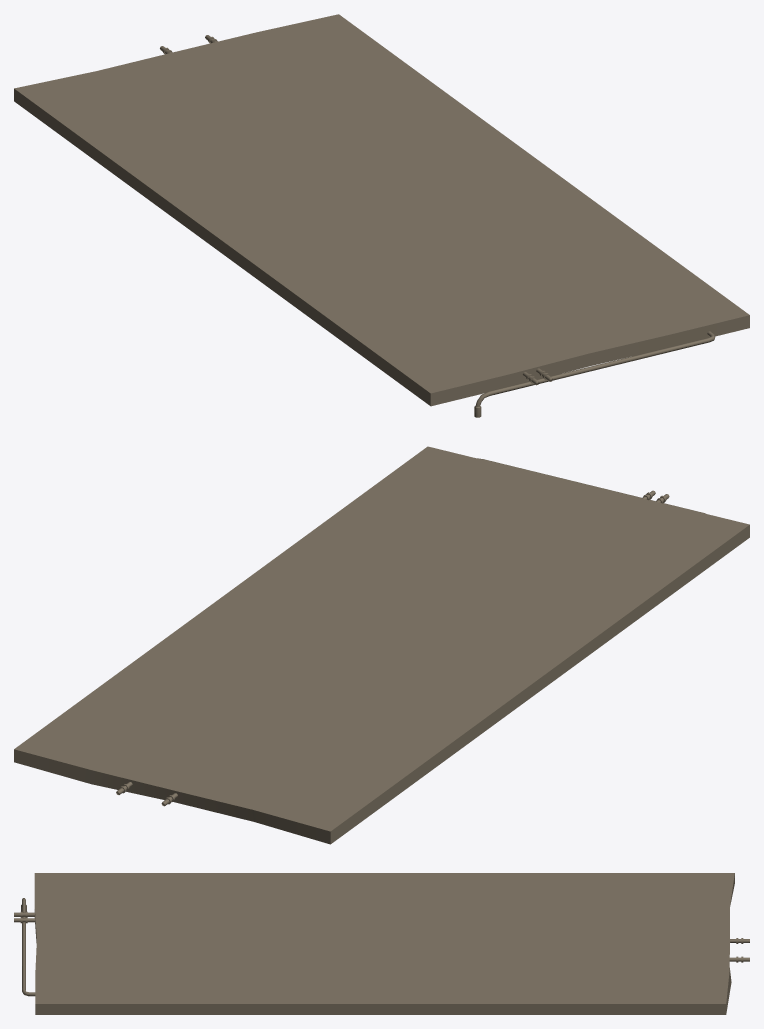
File: longcFloor4_LP.fbx
3 views of the same model, one above another, from view 1: azimuth 30°, elevation 25°; view 2: azimuth 150°, elevation 25°; view 3: azimuth 270°, elevation 25° (orthographic). The views are drawn at different scales.
Parts seen in each view (by area): view 1: longFloor7_LP, longFloor8_LP; view 2: longFloor7_LP, longFloor8_LP; view 3: longFloor7_LP, longFloor8_LP.
Part boxes in pixels (x1,y1,x2,y2): longFloor7_LP: (14,14,749,406); longFloor8_LP: (160,35,715,417); longFloor7_LP: (14,446,749,844); longFloor8_LP: (116,458,705,806); longFloor7_LP: (34,873,734,1014); longFloor8_LP: (14,898,749,996).
Bounding box in the file's own units: 1061 × 89.53 × 2518.
